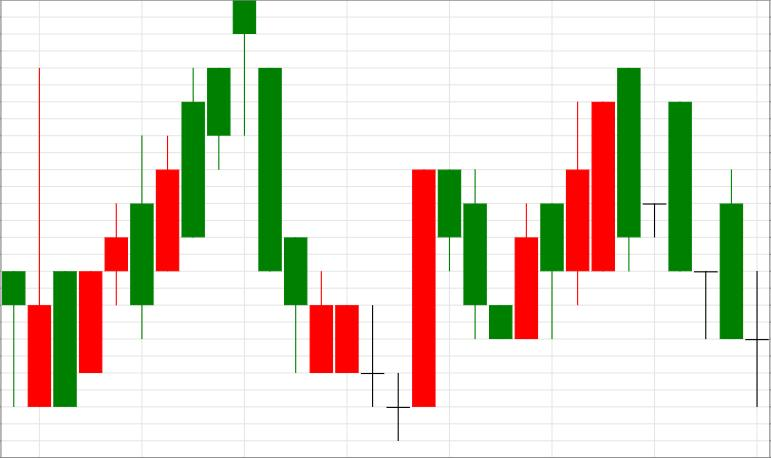bearish_engulfing_fall: (489, 67, 640, 338)
hanging_man_fall: (79, 0, 256, 373)
